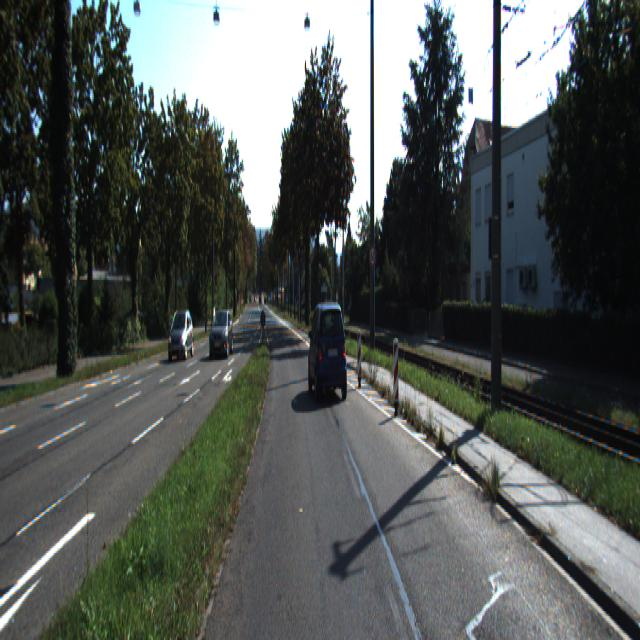Car: (307, 300, 348, 406), (167, 309, 193, 362), (209, 309, 233, 362)
